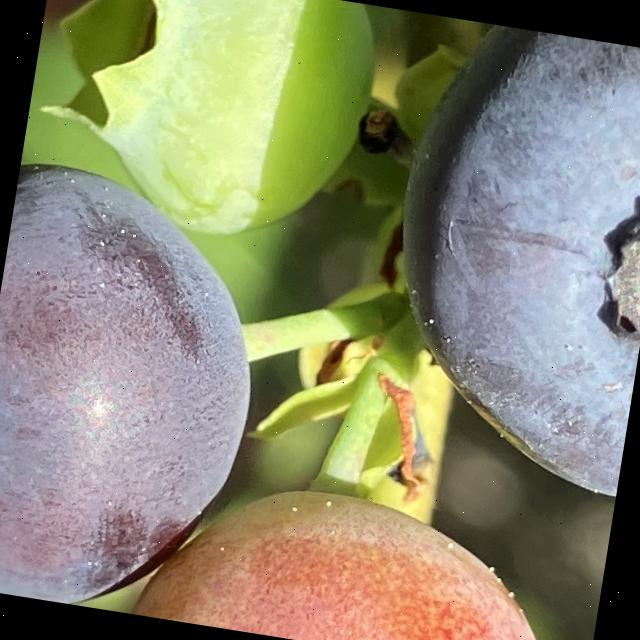Blueberries: (122, 458, 585, 640)
